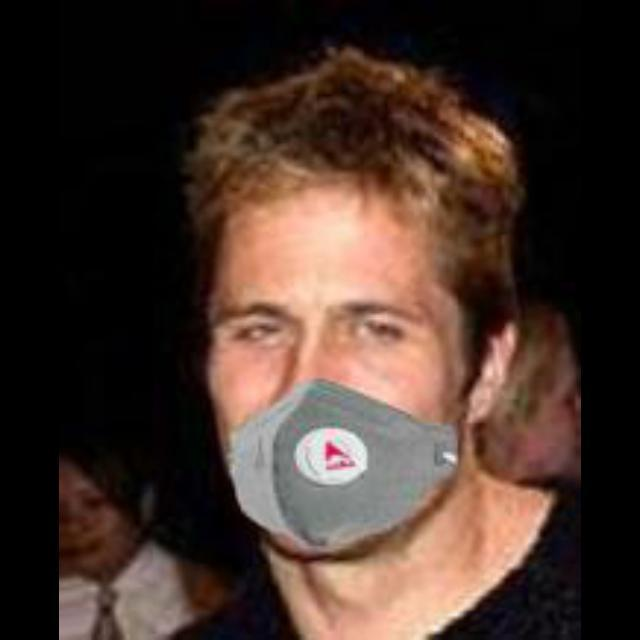suspicion: (190, 146, 492, 560)
